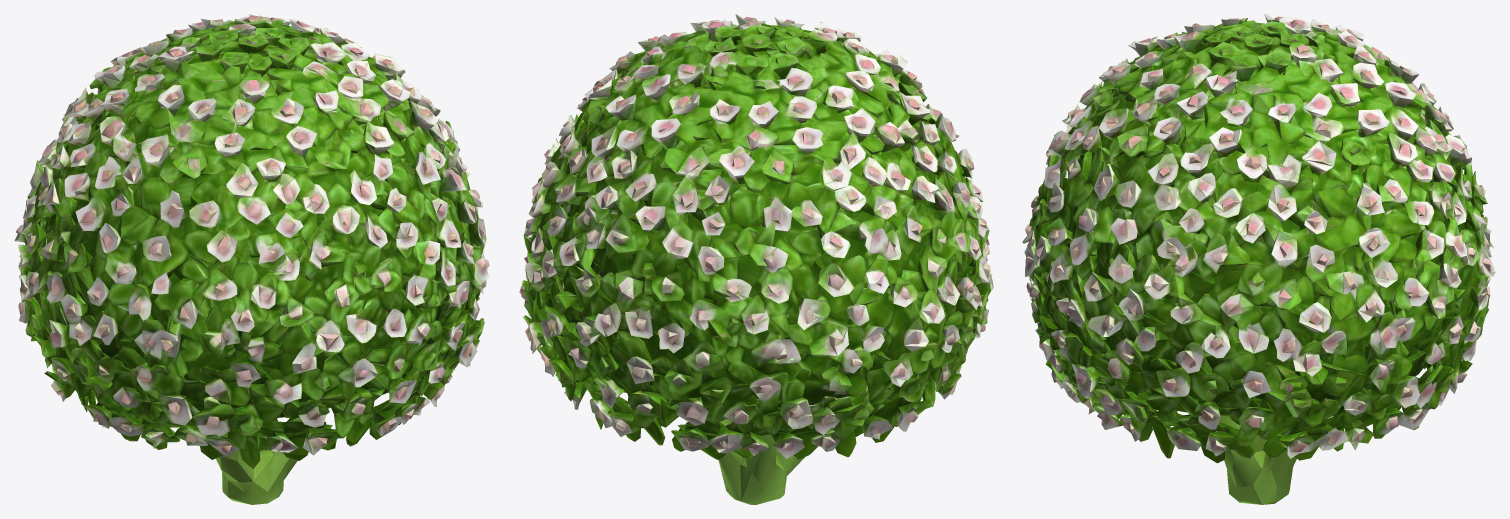
File: bush.glb
The picture shows the model from 3 angles, left to right: view 1: azimuth 30°, elevation 25°; view 2: azimuth 150°, elevation 25°; view 3: azimuth 270°, elevation 25°; orthographic projection.
Size of the model in its own units: 1.78 by 1.89 by 1.78.
Materials: 1 (1 with a texture image).
